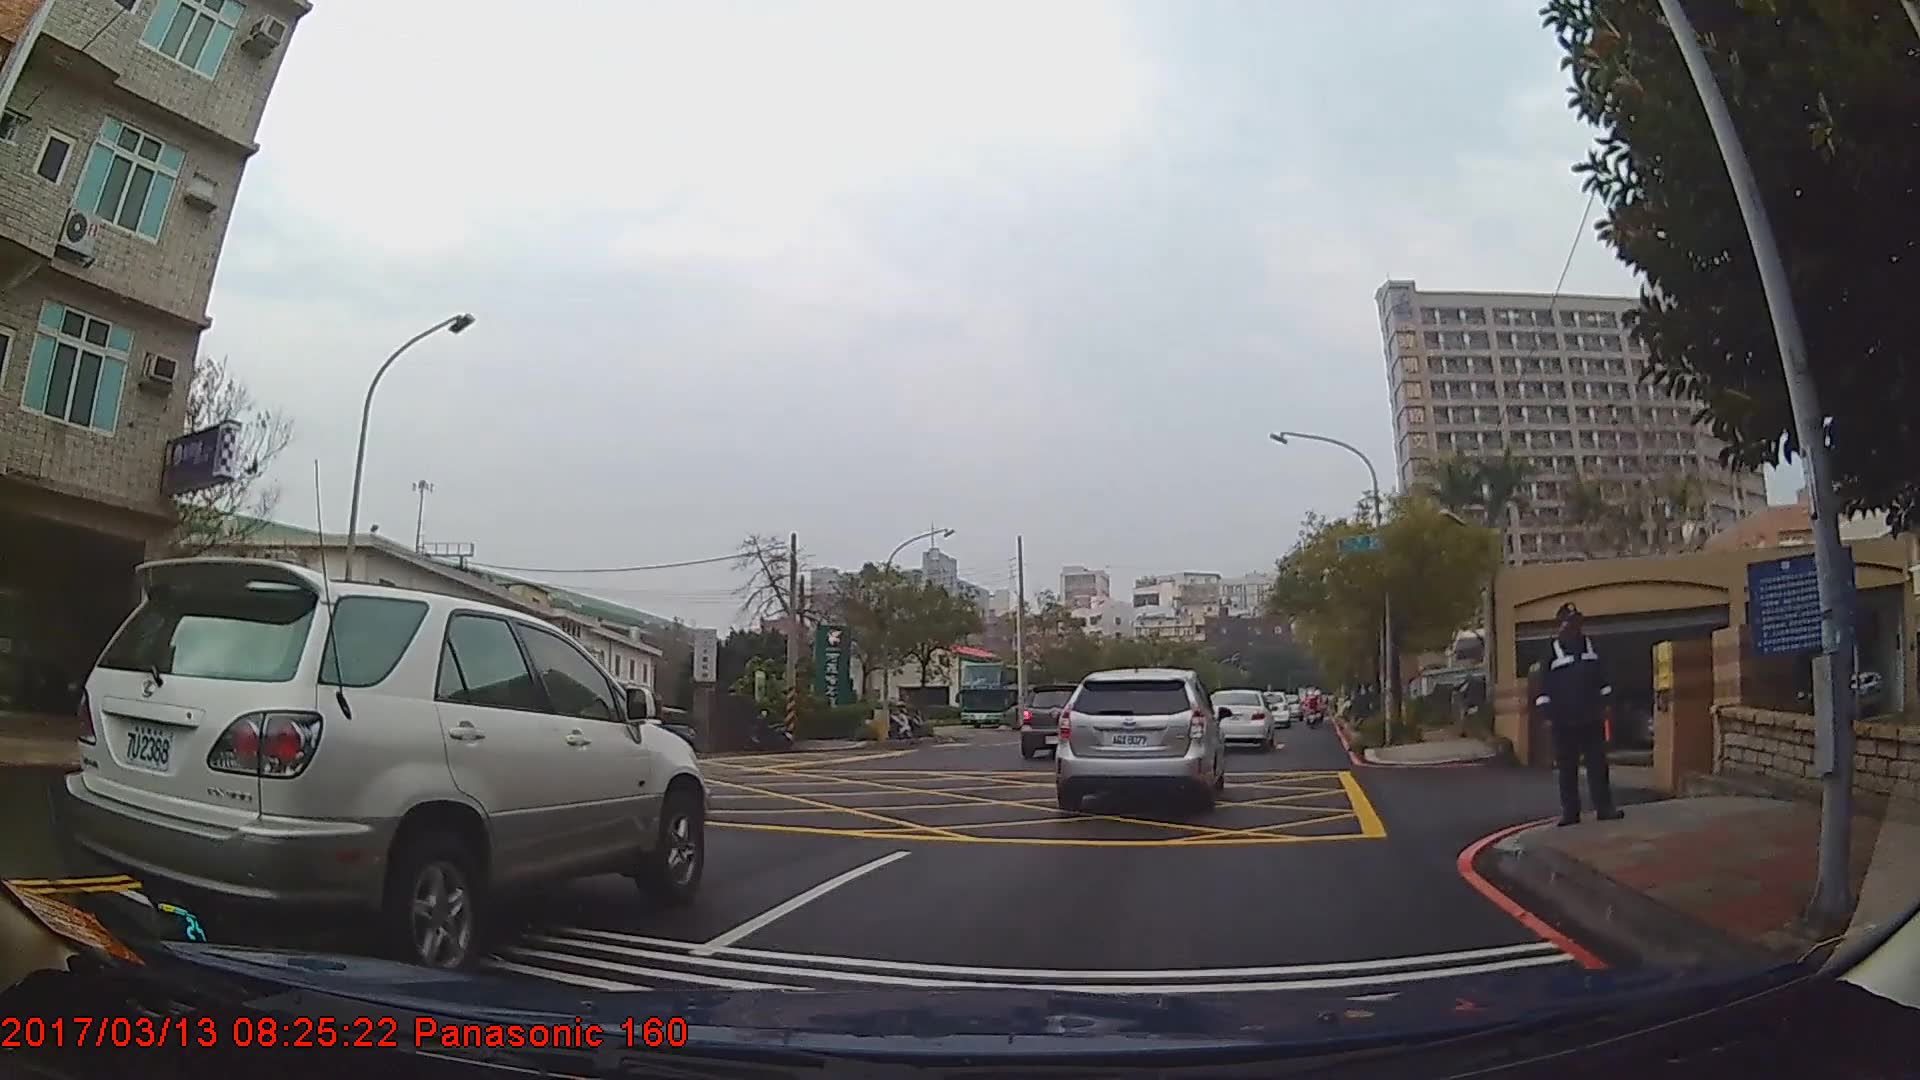pedestrian: (1527, 601, 1621, 826)
vehicle: (61, 552, 707, 973), (1054, 663, 1223, 809), (1015, 681, 1106, 755), (957, 661, 1057, 728), (1203, 686, 1275, 749)
